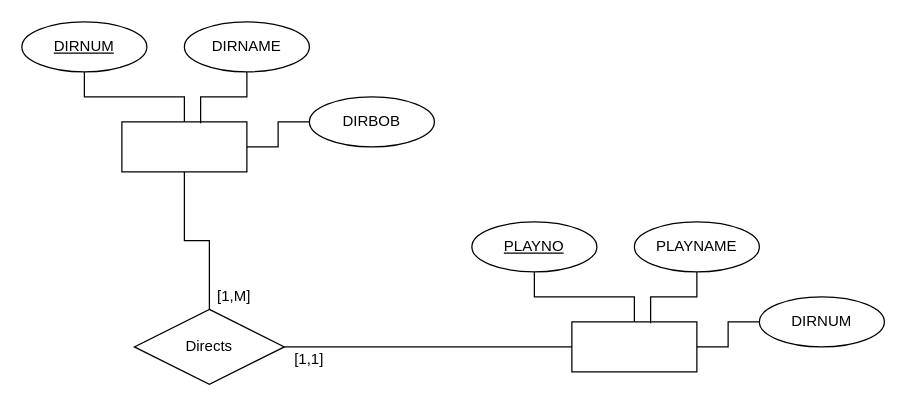
Some shapes in this 906 by 406 pixel diagram are drawn without their labels. The shapes that lost their labels are listed below. From the top down, each one's centre as x and y in pixels, then its label:
At point (184, 146): "Director".
At point (634, 346): "Play".
